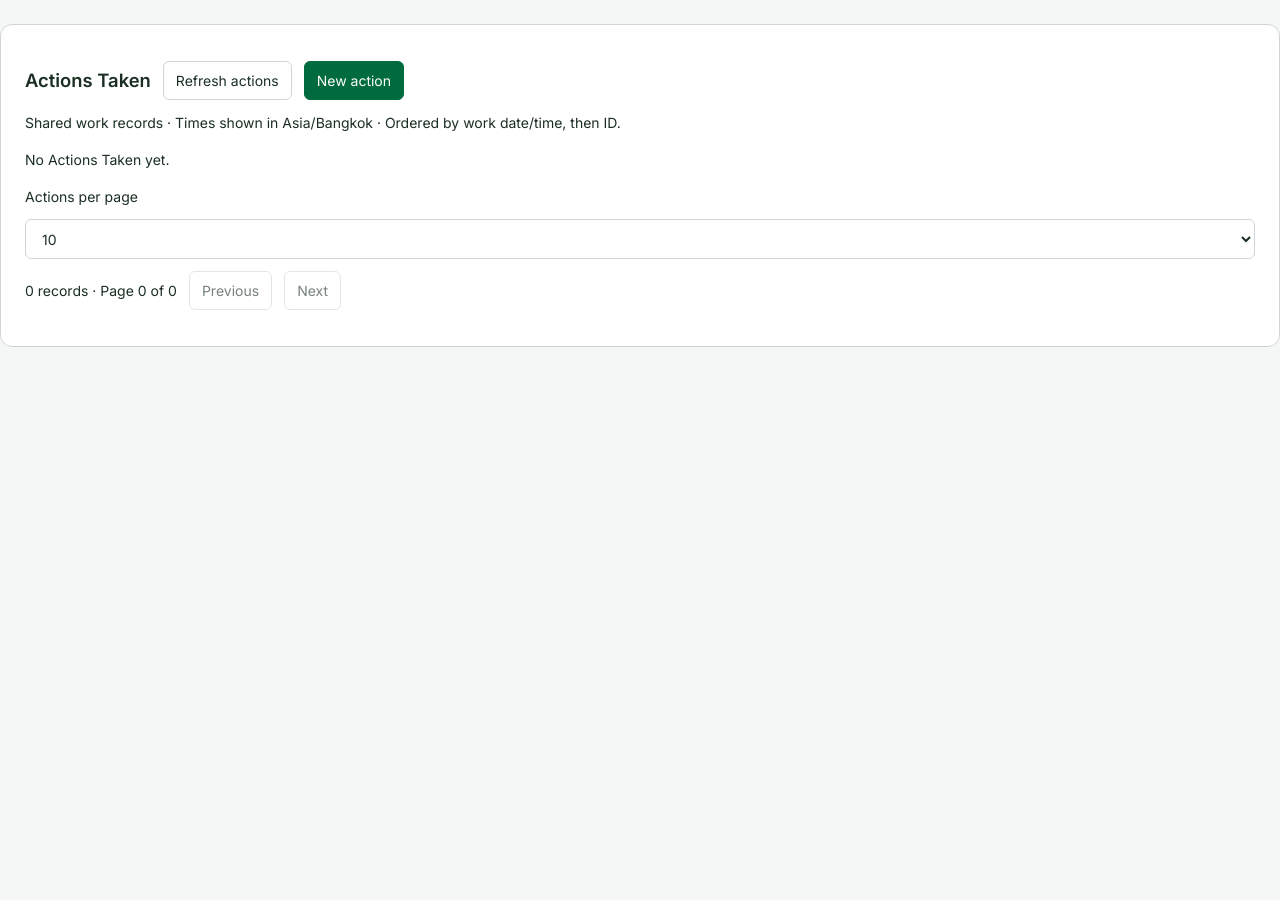
Test: Actions Taken interface › keeps a stale draft while explicitly reloading versions, never silently retries
Expected: the text "No Actions Taken yet." is shown, [25, 151, 170, 168]
Click the button "New action" at [354, 80], box [304, 61, 404, 100]
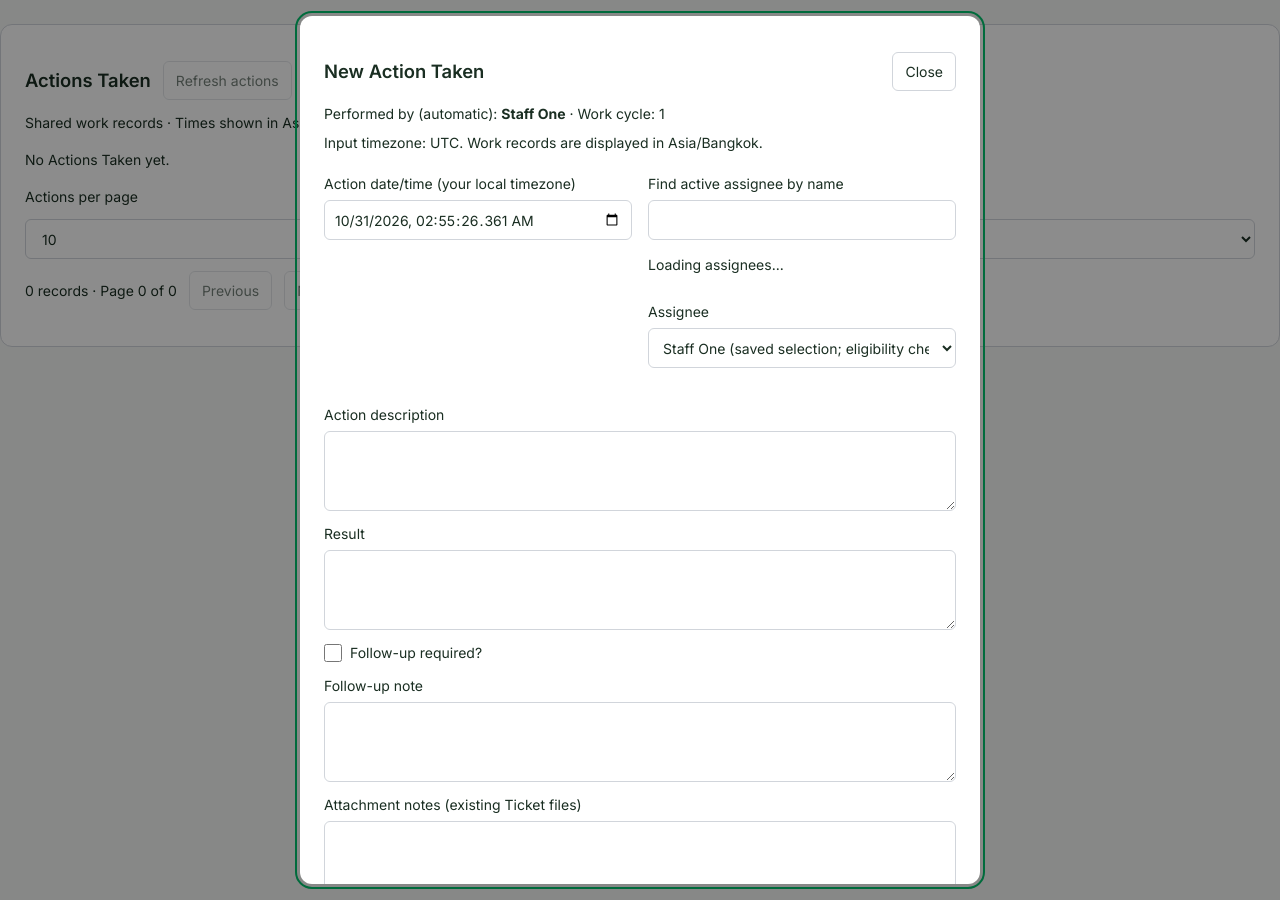
Type "Draft survives conflict" into the text box labelled "Action description" at [640, 471], box [324, 431, 956, 511]
(page scrolled)
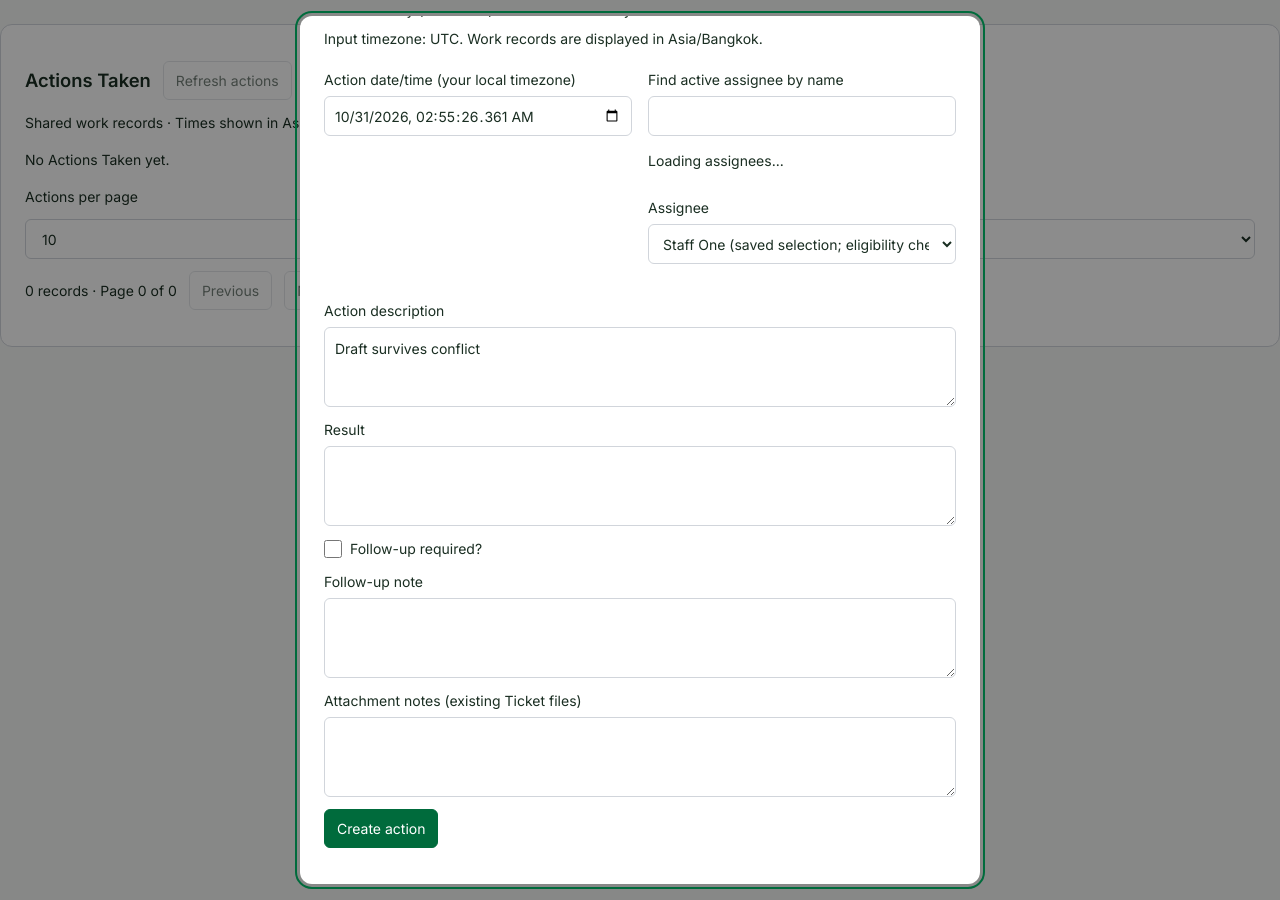
Click the button "Create action" at [381, 828], box [324, 809, 438, 848]
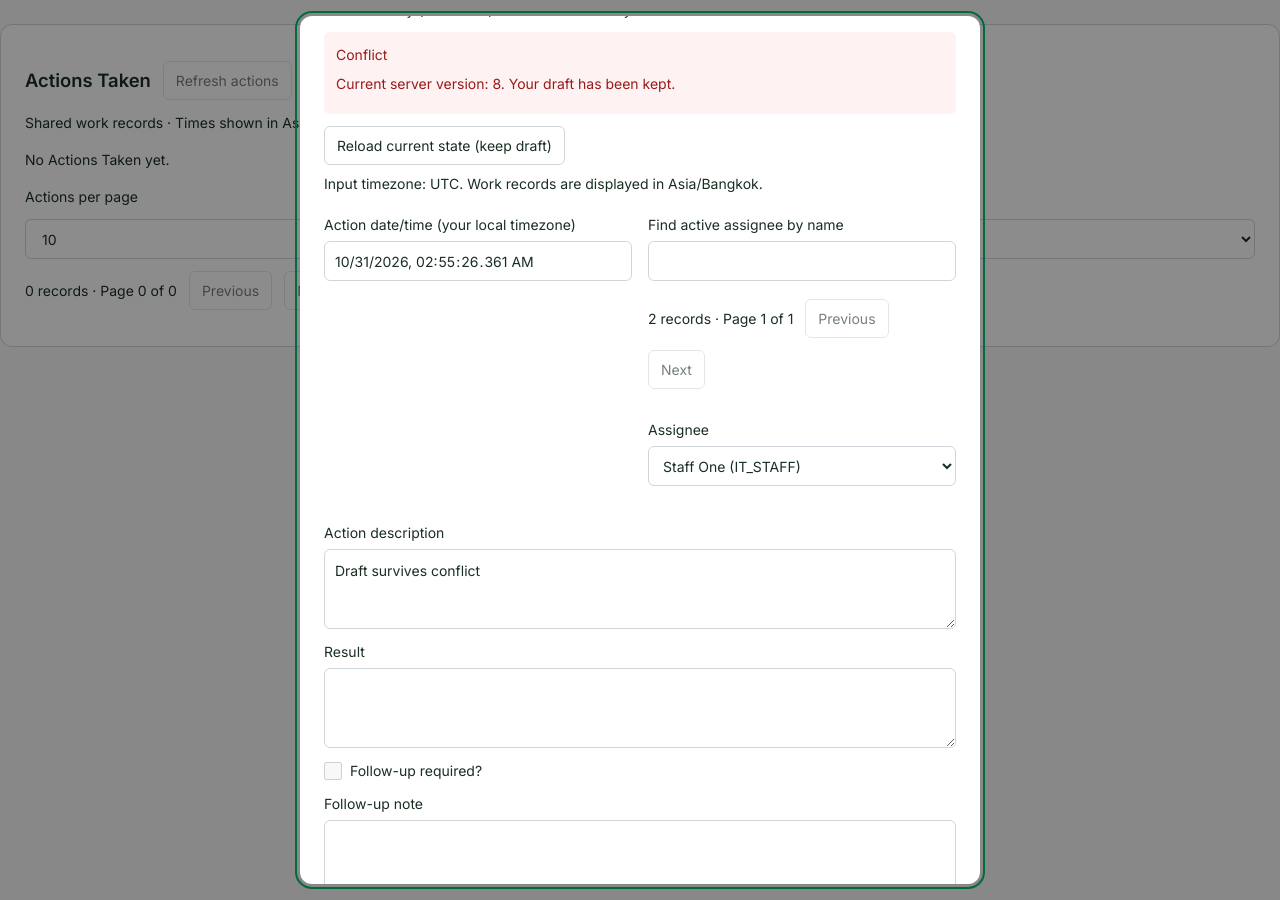
Expected: the message shows "Current server version: 8", [324, 32, 956, 114]
Click the button "Reload current state (keep draft)" at [444, 146], box [324, 126, 565, 165]
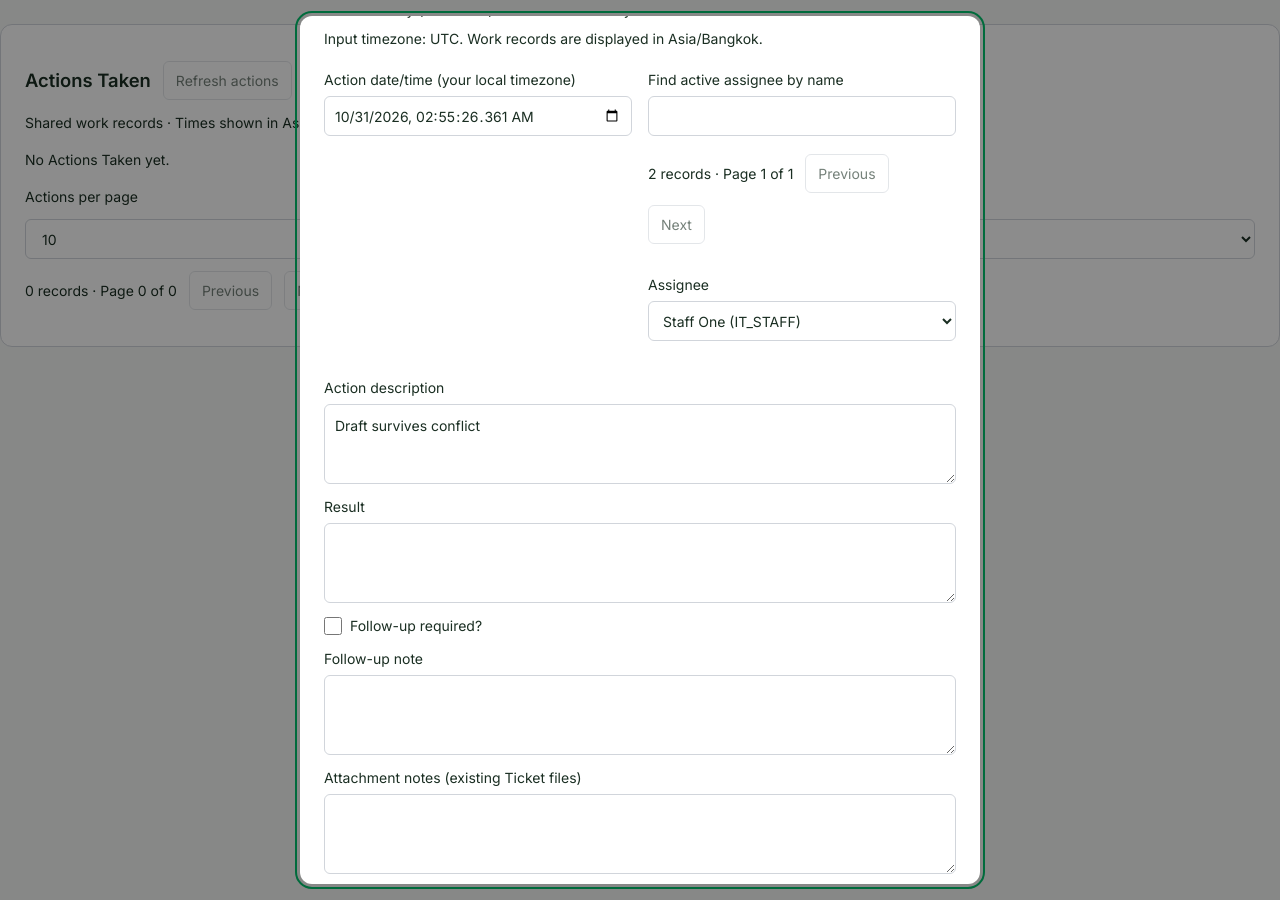
Expected: the text box labelled "Action description" is enabled, [324, 404, 956, 484]
